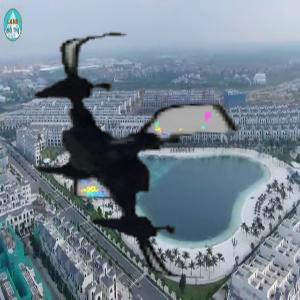drone: (5, 32, 252, 279)
